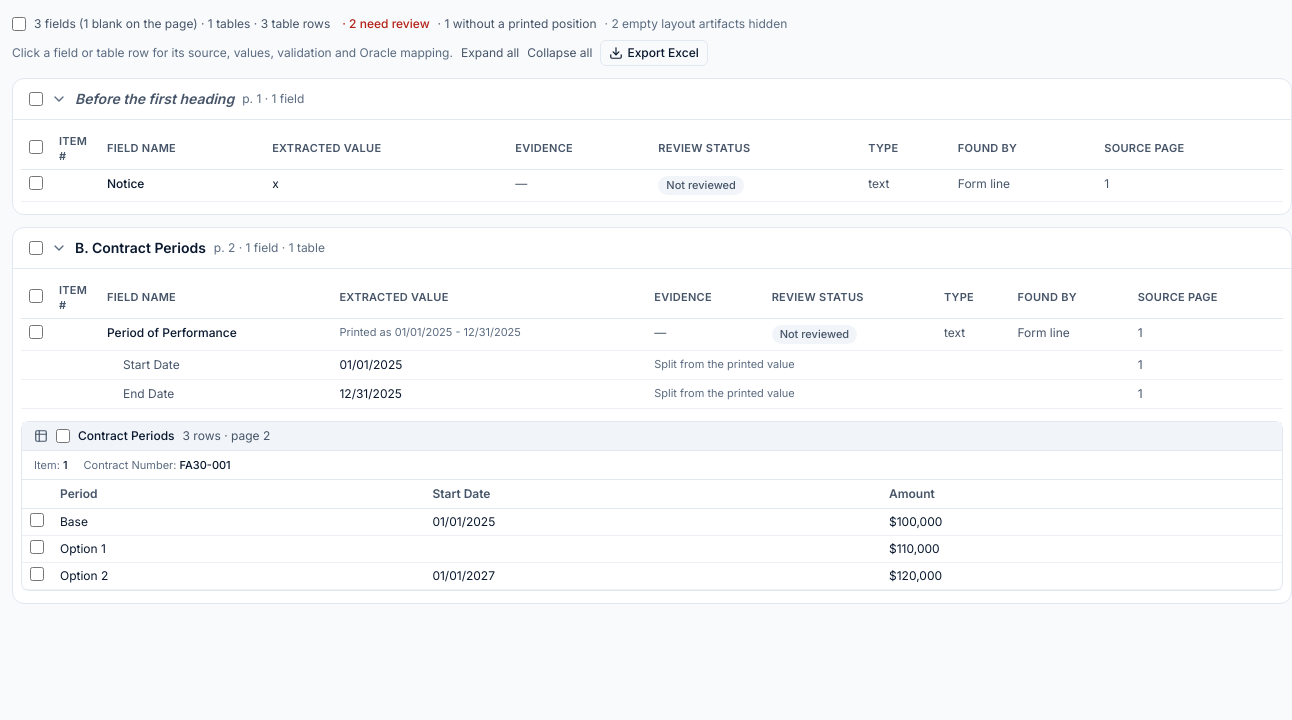
Test: Original File grouping › selects a section's records, shows a part-selected section, and keeps selection while collapsed
Click the checkbox named "Select all records in B. Contract Periods" at point(36, 248), box [29,241,43,255]
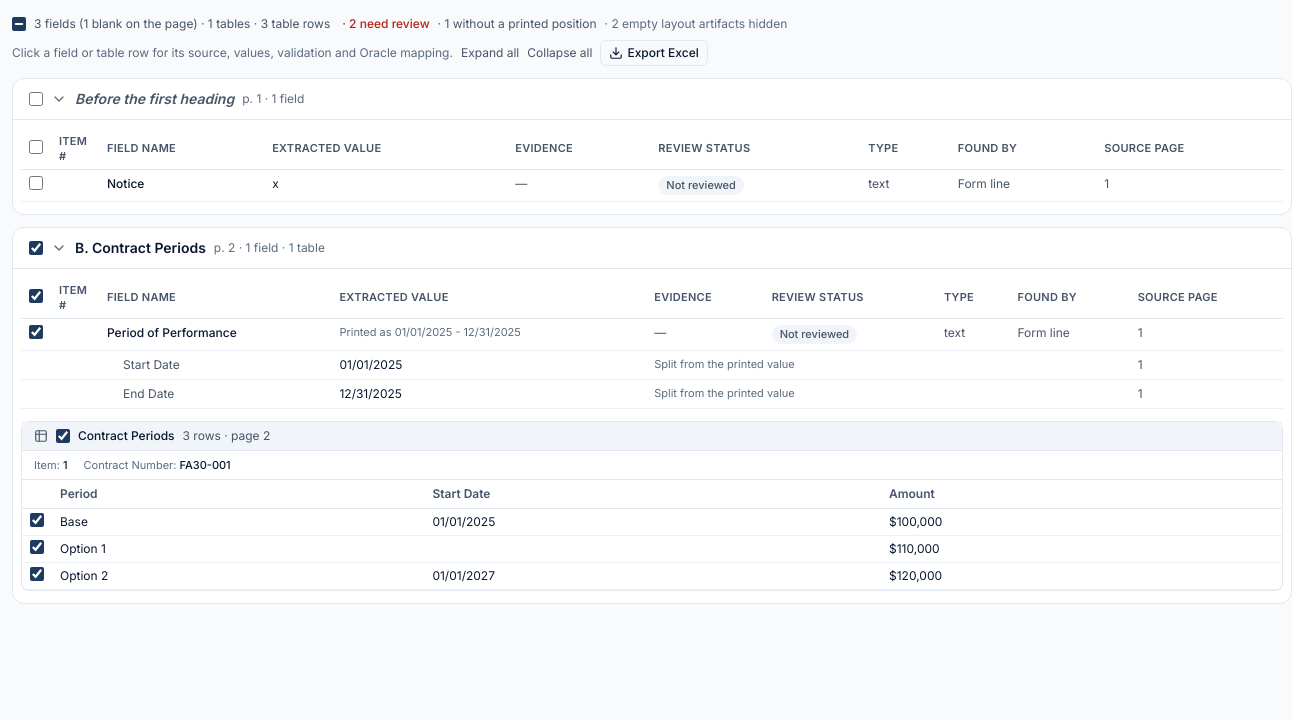
Expected: the checkbox named "Select all records in B. Contract Periods" is checked, [29,241,43,255]
Expected: the checkbox named "Select row 2 of Contract Periods" is checked
Click the checkbox named "Select row 2 of Contract Periods" at point(37, 547), box [30,540,44,554]
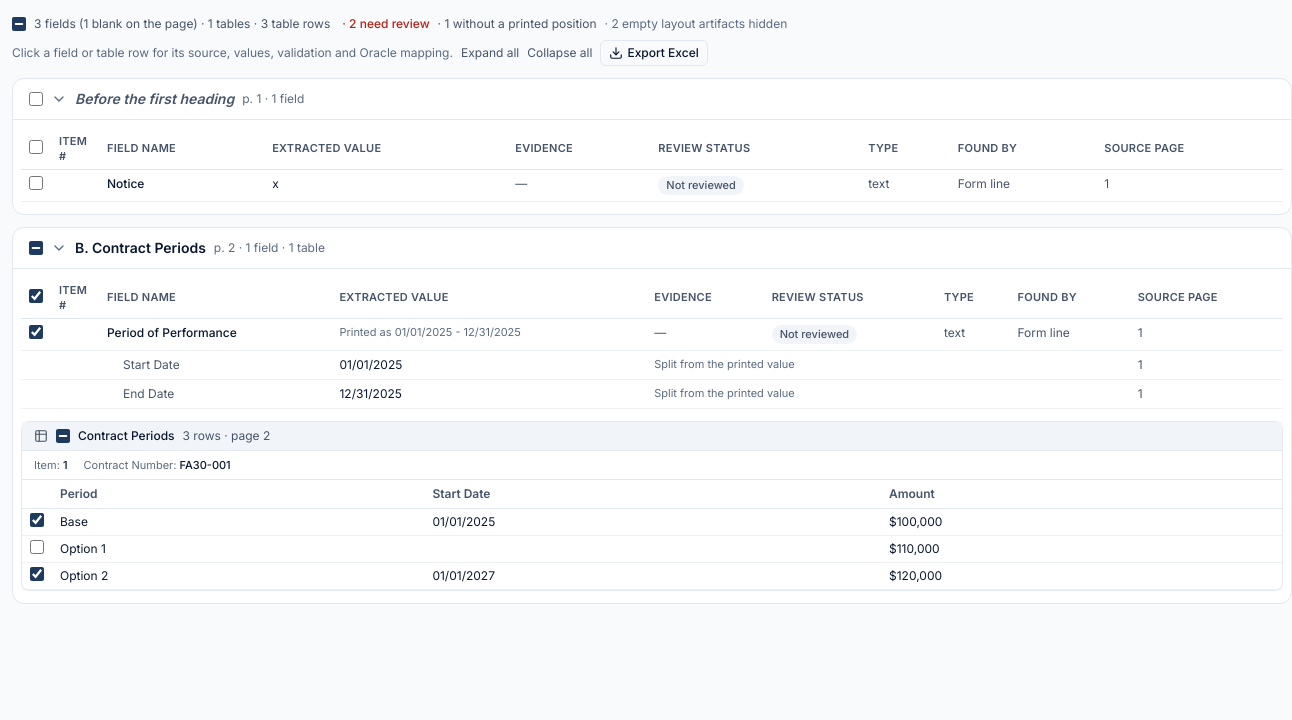
Expected: the checkbox named "Select all records in B. Contract Periods" is not checked, [29,241,43,255]
Click the button "B. Contract Periods p. 2 · 1 field · 1 table" at point(140, 247), box [51,238,1275,258]
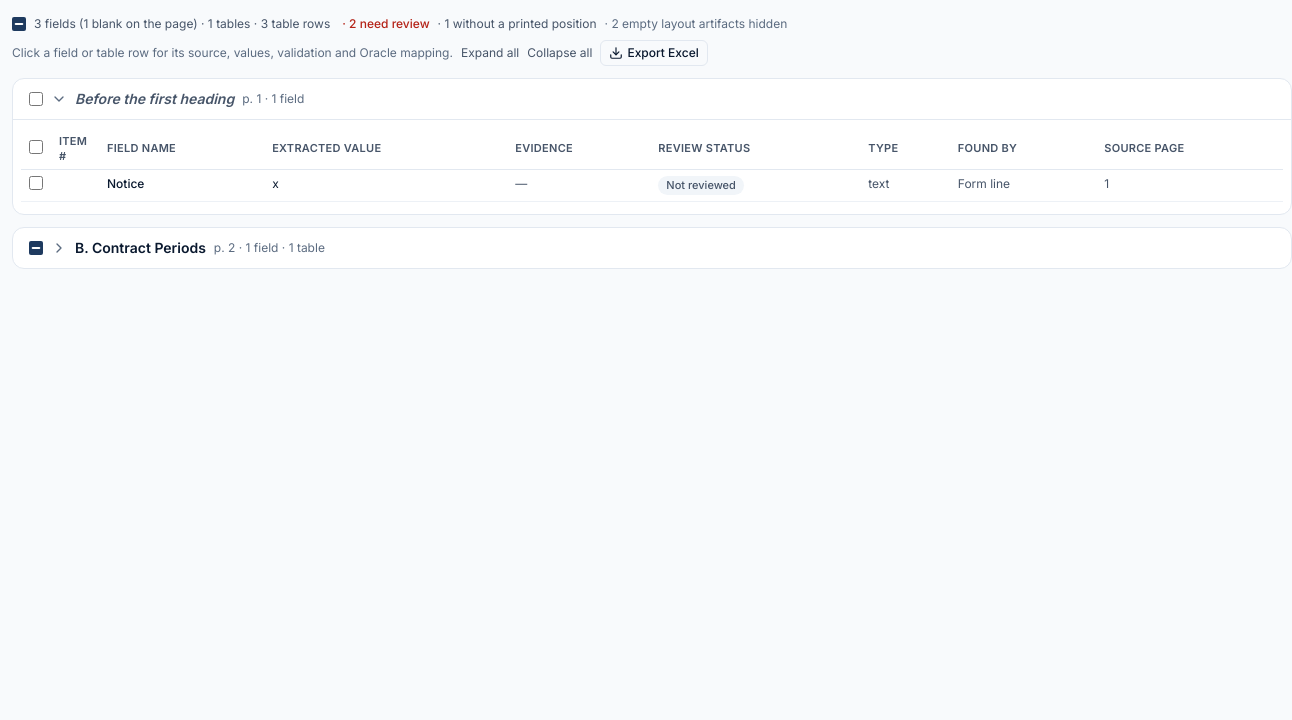
Click the button "B. Contract Periods p. 2 · 1 field · 1 table" at point(140, 247), box [51,238,1275,258]
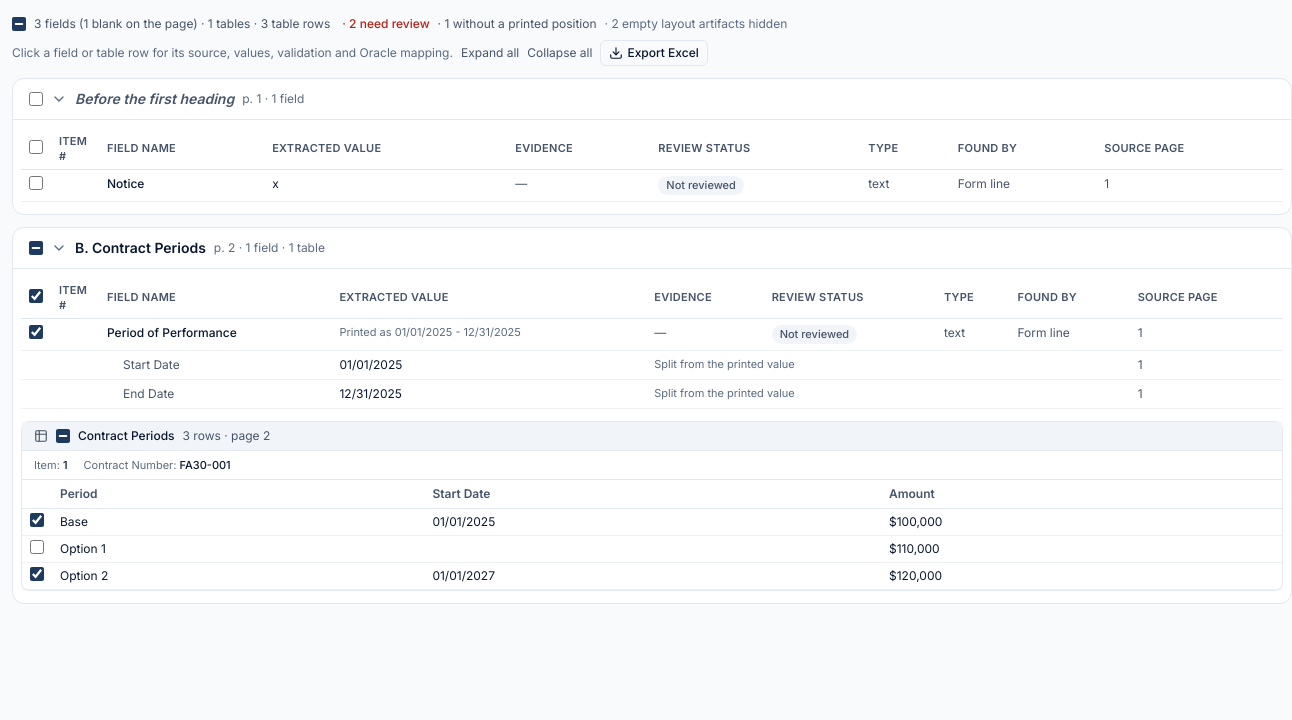
Expected: the checkbox named "Select row 1 of Contract Periods" is checked, [30,513,44,527]
Expected: the checkbox named "Select row 2 of Contract Periods" is not checked, [30,540,44,554]
